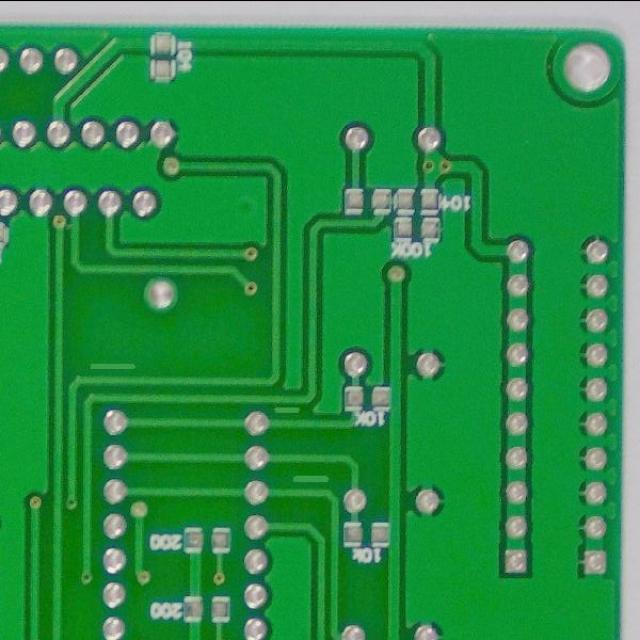Spurious_Cooper: (85, 358, 141, 372), (288, 470, 334, 486), (270, 403, 304, 416)
